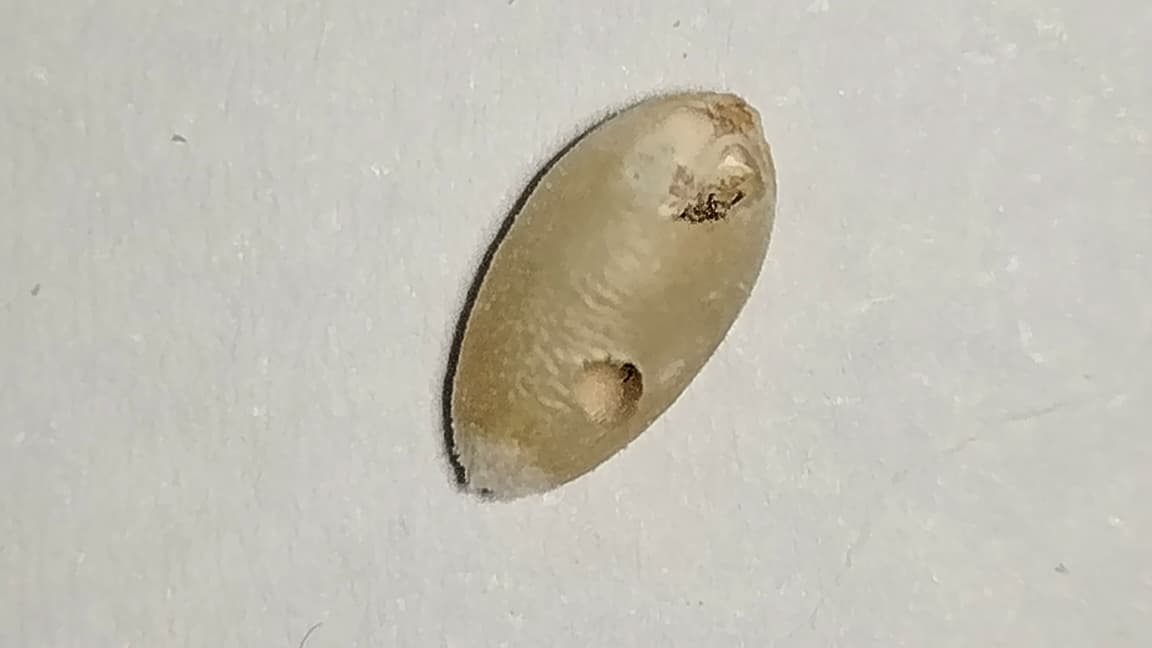damage: (445, 89, 777, 502)
insectdamage: (618, 86, 775, 246), (554, 340, 660, 437)
